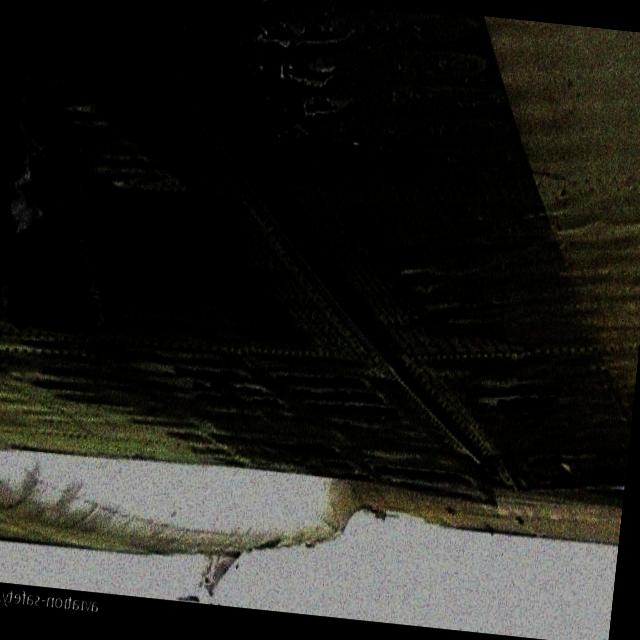crack: (244, 12, 368, 124)
